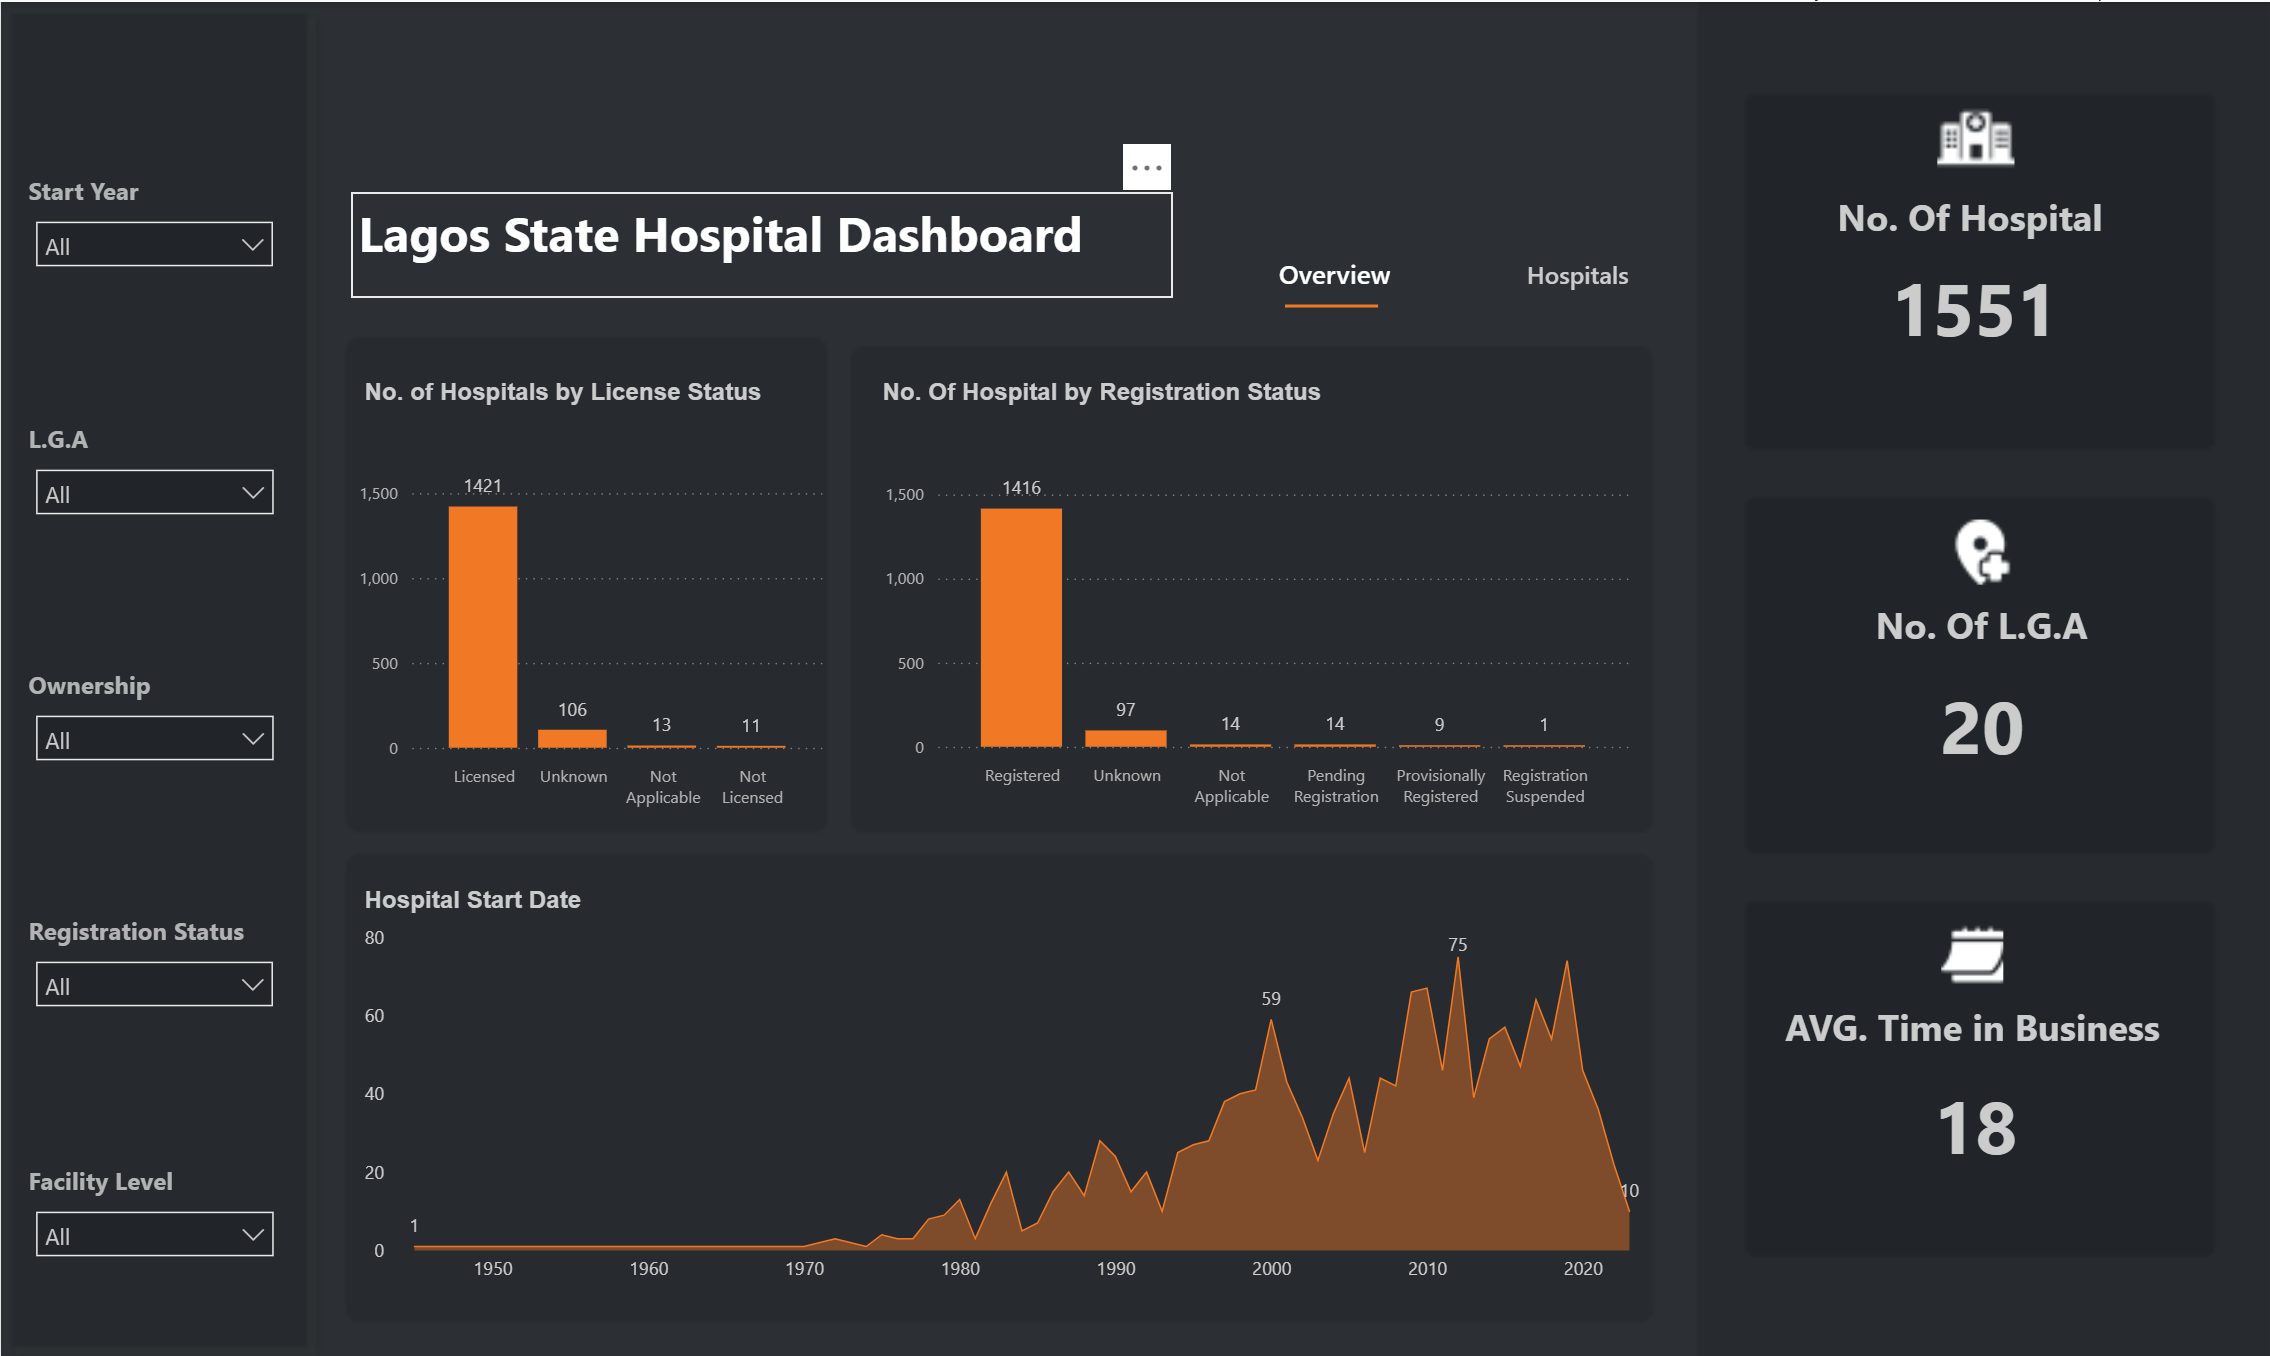

This screenshot's page, from the dashboard's own definition file:
{"tool":"powerbi","page":{"name":"Overview","canvas":[1500,900],"ordinal":0},"visuals":[{"type":"textbox","box":[231.4,125.5,543.1,70.6],"z":0},{"type":"pageNavigator","box":[845.1,154.9,260.8,51],"z":1000},{"type":"textbox","box":[235.3,578.4,174.5,49],"z":2000},{"type":"textbox","box":[234.7,242.9,291.8,49],"z":3000},{"type":"textbox","box":[577.6,242.9,332.7,49],"z":4000},{"type":"textbox","box":[1157.8,654.9,290.2,49],"z":5000},{"type":"textbox","box":[1173.5,390.2,270.6,49],"z":6000},{"type":"textbox","box":[1184.6,119.6,239.2,49],"z":7000},{"type":"columnChart","fields":{"Category":["hospital_data.license_status"],"Y":["Count(hospital_data.facility_uid)"]},"box":[231.4,290.2,317.6,249],"z":8000},{"type":"areaChart","fields":{"Category":["hospital_data.start_date.Variation.Date Hierarchy.Year"],"Y":["Count(hospital_data.facility_uid)"]},"box":[235.3,603.9,858.8,251],"z":9000},{"type":"columnChart","fields":{"Category":["hospital_data.registration_status"],"Y":["Count(hospital_data.facility_uid)"]},"box":[578.4,292.2,502,247.1],"z":10000},{"type":"image","box":[1199.3,58.8,209.8,60.8],"z":11000},{"type":"image","box":[1159.8,337.3,298,52.9],"z":12000},{"type":"image","box":[1188.2,603.9,229.4,51],"z":13000},{"type":"card","title":"No. Of Hospitals","fields":{"Values":["hospital_data.Total_Hospital"]},"box":[1207.8,156.9,192.2,86.3],"z":14000},{"type":"card","title":"No. Of L.G.A","fields":{"Values":["hospital_data.Total_Lga"]},"box":[1231.4,433.3,154.9,86.3],"z":15000},{"type":"card","title":"Avg. Time in Bus.","fields":{"Values":["hospital_data.Average_time_in_business"]},"box":[1194.1,698,219.6,86.3],"z":16000},{"type":"shape","box":[848.1,169.2,61.5,63.5],"z":17000},{"type":"slicer","title":"Ownership","fields":{"Values":["hospital_data.ownership"]},"box":[13.1,440.5,176.9,73.1],"z":18000},{"type":"slicer","title":"L.G.A","fields":{"Values":["hospital_data.lga"]},"box":[13.1,277.8,176.9,73.1],"z":19000},{"type":"slicer","title":"Facility Level","fields":{"Values":["hospital_data.facility_level"]},"box":[13.1,767.3,176.9,73.1],"z":20000},{"type":"slicer","title":"Registration Status","fields":{"Values":["hospital_data.registration_status"]},"box":[13.3,603.2,176.5,74.5],"z":21000},{"type":"slicer","title":"Start Year","fields":{"Values":["hospital_data.start_date.Variation.Date Hierarchy.Year"]},"box":[13.3,113.7,176.5,74.5],"z":22000}]}

Visuals, with their boxes in screenshot pixels (x1, y1, x2, y2), scaled from the page's 1500x900 canvas onto the 2270x1356 screenshot:
textbox: x1=350 y1=189 x2=1172 y2=295
pageNavigator: x1=1279 y1=233 x2=1674 y2=310
textbox: x1=356 y1=871 x2=620 y2=945
textbox: x1=355 y1=366 x2=797 y2=440
textbox: x1=874 y1=366 x2=1378 y2=440
textbox: x1=1752 y1=987 x2=2191 y2=1061
textbox: x1=1776 y1=588 x2=2185 y2=662
textbox: x1=1793 y1=180 x2=2155 y2=254
columnChart - hospital_data.license_status x Count(hospital_data.facility_uid): x1=350 y1=437 x2=831 y2=812
areaChart - hospital_data.start_date.Variation.Date Hierarchy.Year x Count(hospital_data.facility_uid): x1=356 y1=910 x2=1656 y2=1288
columnChart - hospital_data.registration_status x Count(hospital_data.facility_uid): x1=875 y1=440 x2=1635 y2=813
image: x1=1815 y1=89 x2=2132 y2=180
image: x1=1755 y1=508 x2=2206 y2=588
image: x1=1798 y1=910 x2=2145 y2=987
"No. Of Hospitals" card: x1=1828 y1=236 x2=2119 y2=366
"No. Of L.G.A" card: x1=1864 y1=653 x2=2098 y2=783
"Avg. Time in Bus." card: x1=1807 y1=1052 x2=2139 y2=1182
shape: x1=1283 y1=255 x2=1377 y2=351
"Ownership" slicer: x1=20 y1=664 x2=288 y2=774
"L.G.A" slicer: x1=20 y1=419 x2=288 y2=529
"Facility Level" slicer: x1=20 y1=1156 x2=288 y2=1266
"Registration Status" slicer: x1=20 y1=909 x2=287 y2=1021
"Start Year" slicer: x1=20 y1=171 x2=287 y2=284
